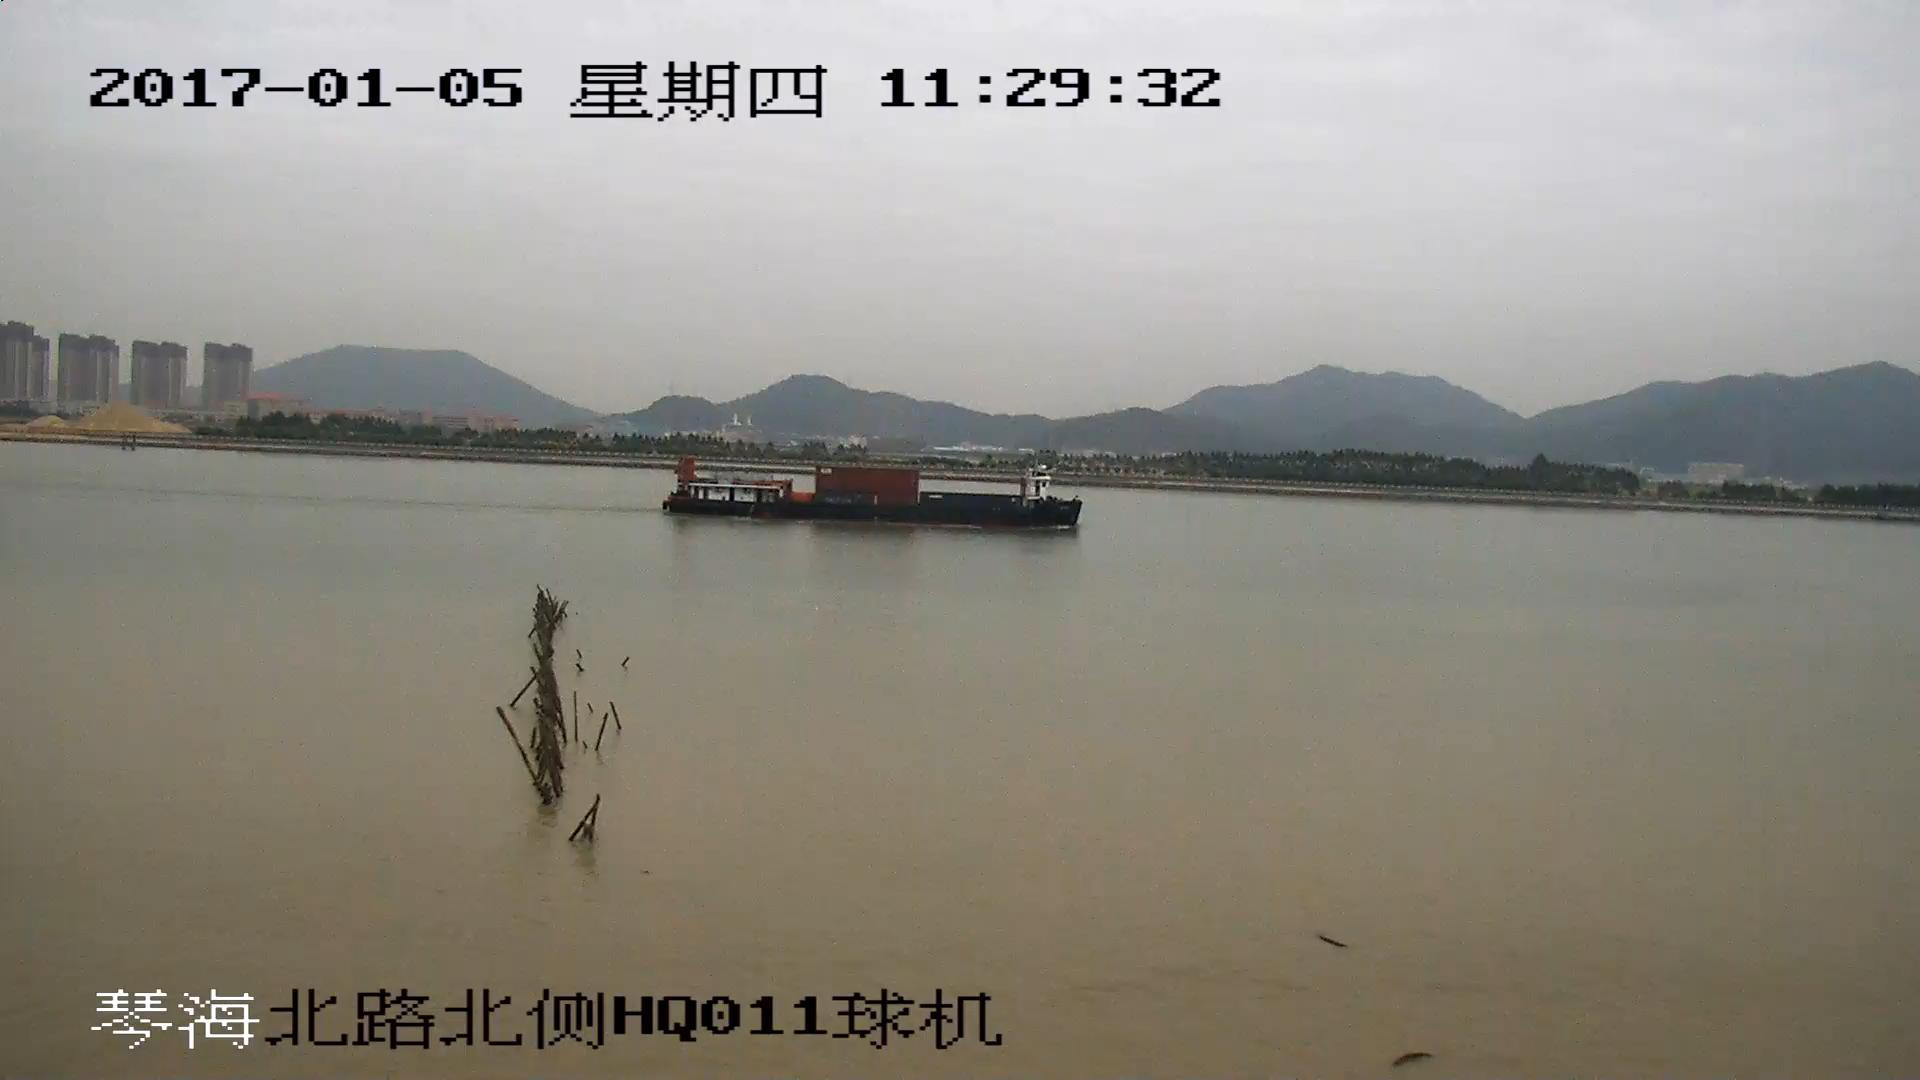container ship: (662, 458, 1083, 532)
